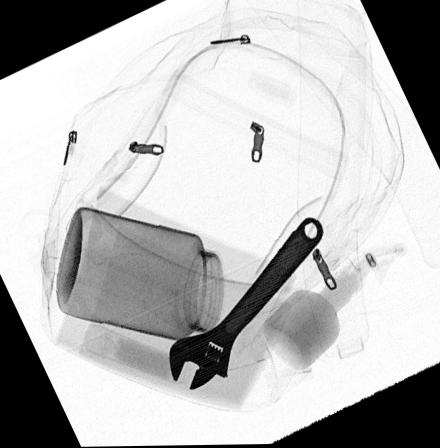Wrench: (167, 217, 326, 394)
